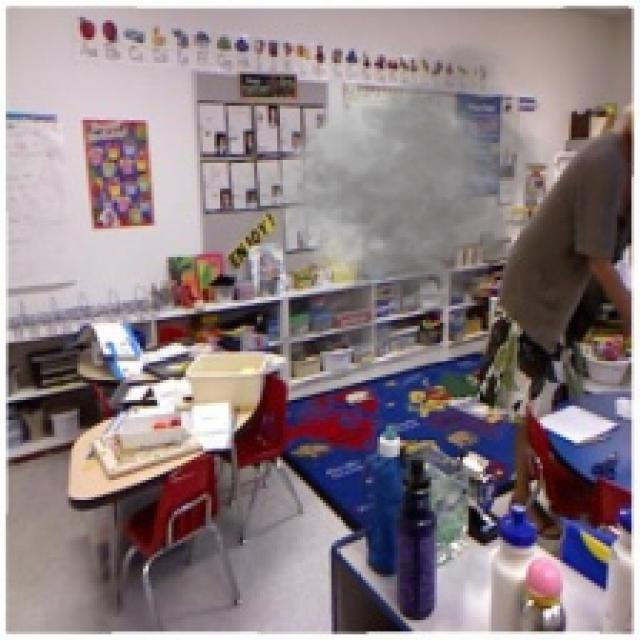smoke: (211, 29, 566, 377)
